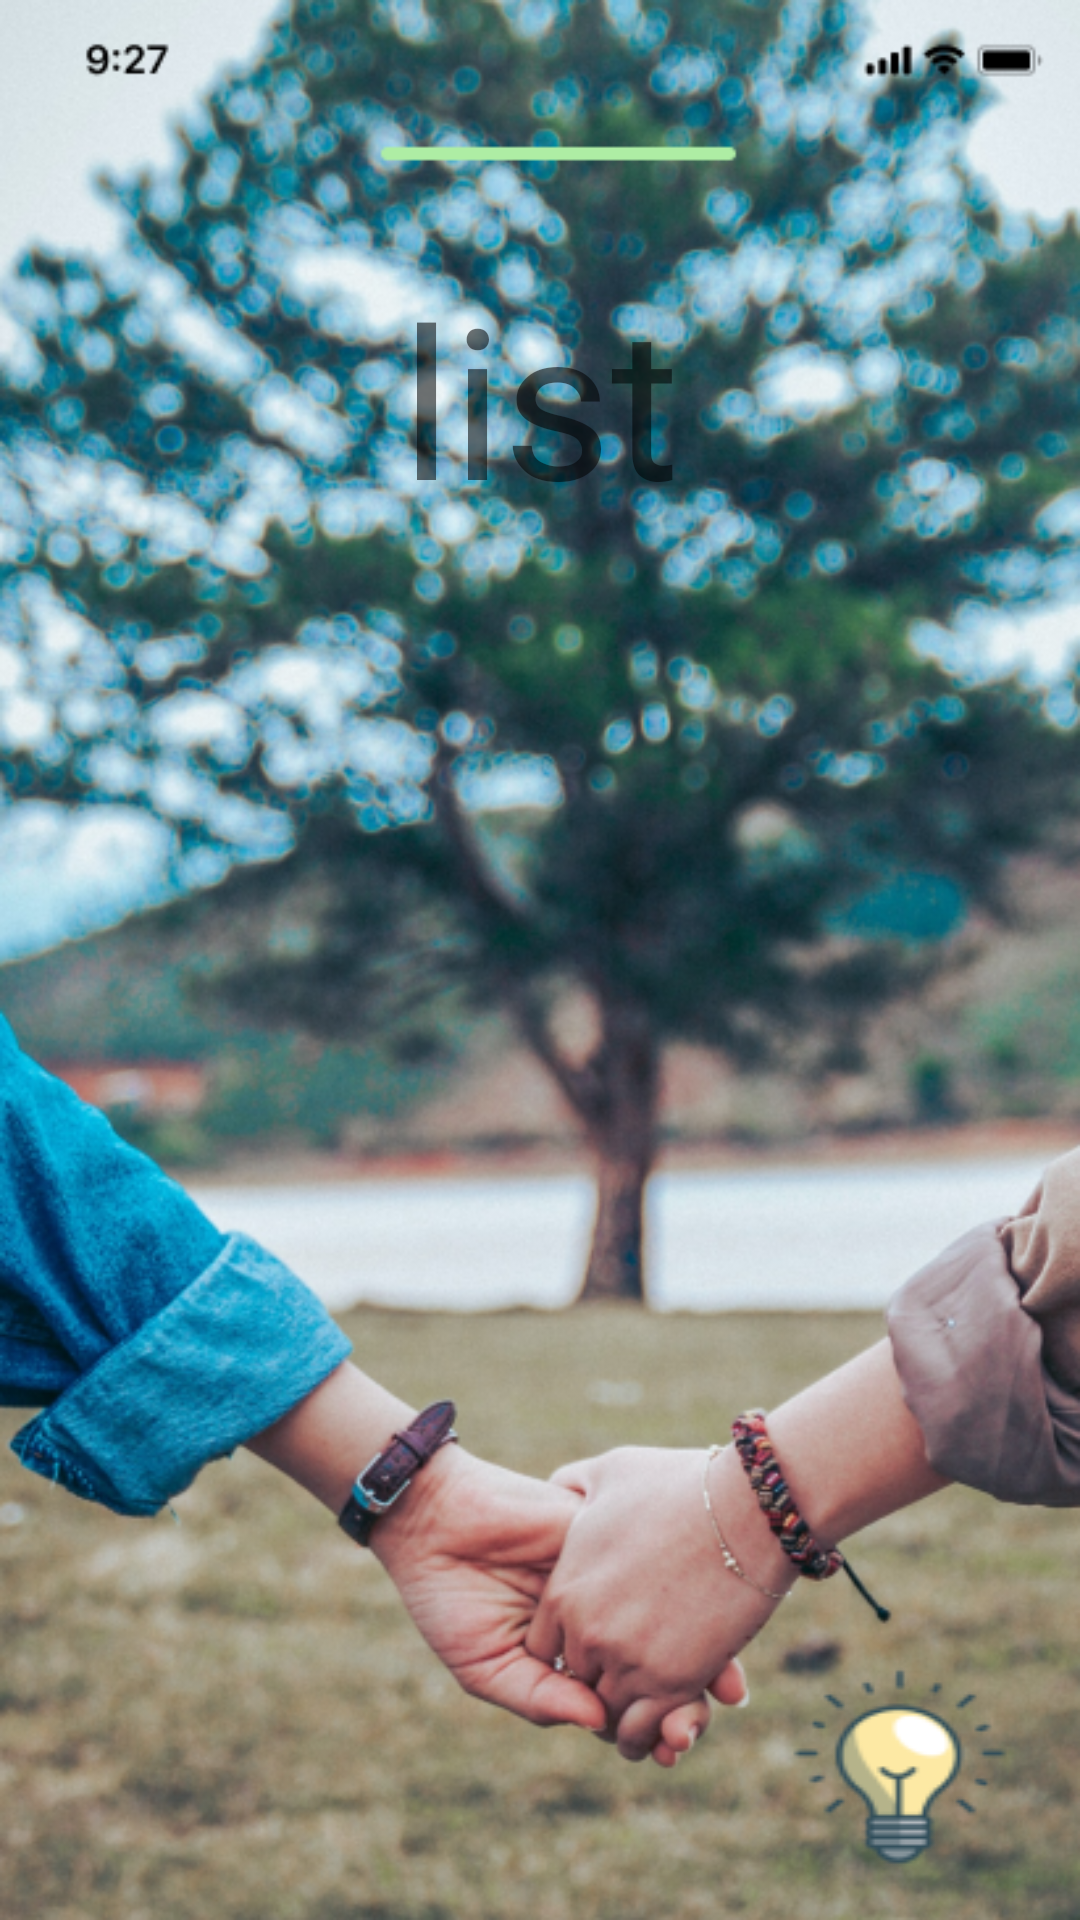

Point at icon controls on the screen. Image size 1080w x 1920h, points as (x=x, y=y).
idea: (x=900, y=1767)
